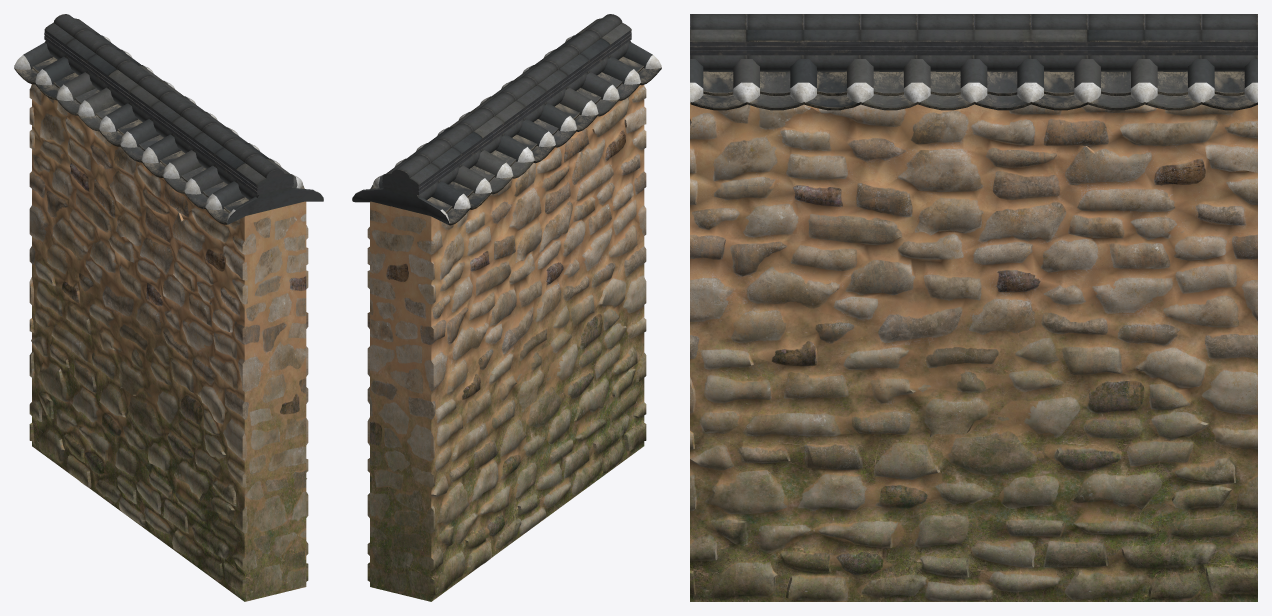
Rendered from SM_Stonewall02a.fbx.
3 renders of one model, left to right at view 1: azimuth 30°, elevation 25°; view 2: azimuth 150°, elevation 25°; view 3: azimuth 270°, elevation 25°, orthographic. The views are drawn at different scales.
Parts seen in each view (by area): view 1: SM_Stonewall02a; view 2: SM_Stonewall02a; view 3: SM_Stonewall02a.
Boxes of the visible parts, bbox=[...] form: SM_Stonewall02a: bbox=[14, 14, 323, 601]; SM_Stonewall02a: bbox=[352, 14, 661, 601]; SM_Stonewall02a: bbox=[690, 14, 1257, 601].
Size of the model in its own units: 79.21 by 300 by 330.
Materials: 2 (2 with a texture image).
